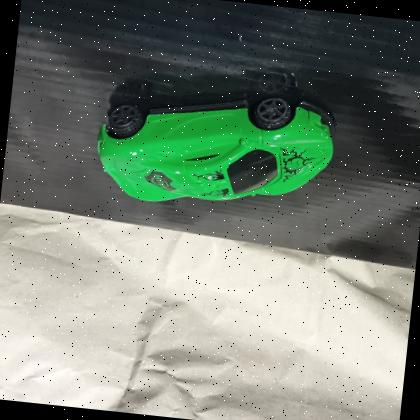Car: (86, 67, 346, 228)
